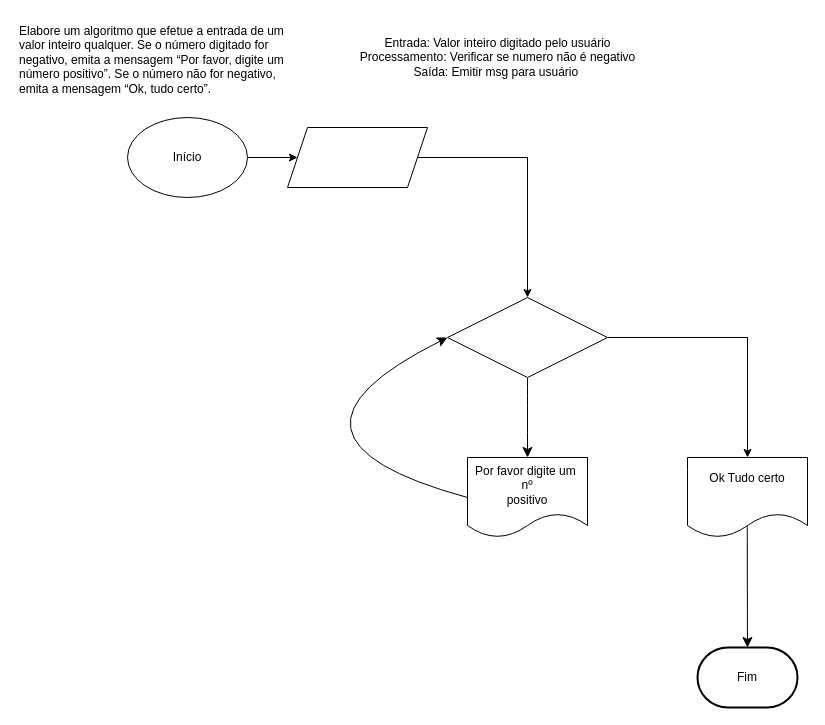
The diagram is 825 pixels wide and 725 high, and some of its shapes have lost their labels. Each missing label, with the centre of its shape:
Digite um numero inteiro: (x=357, y=157)
Nº >= 0: (x=527, y=337)
